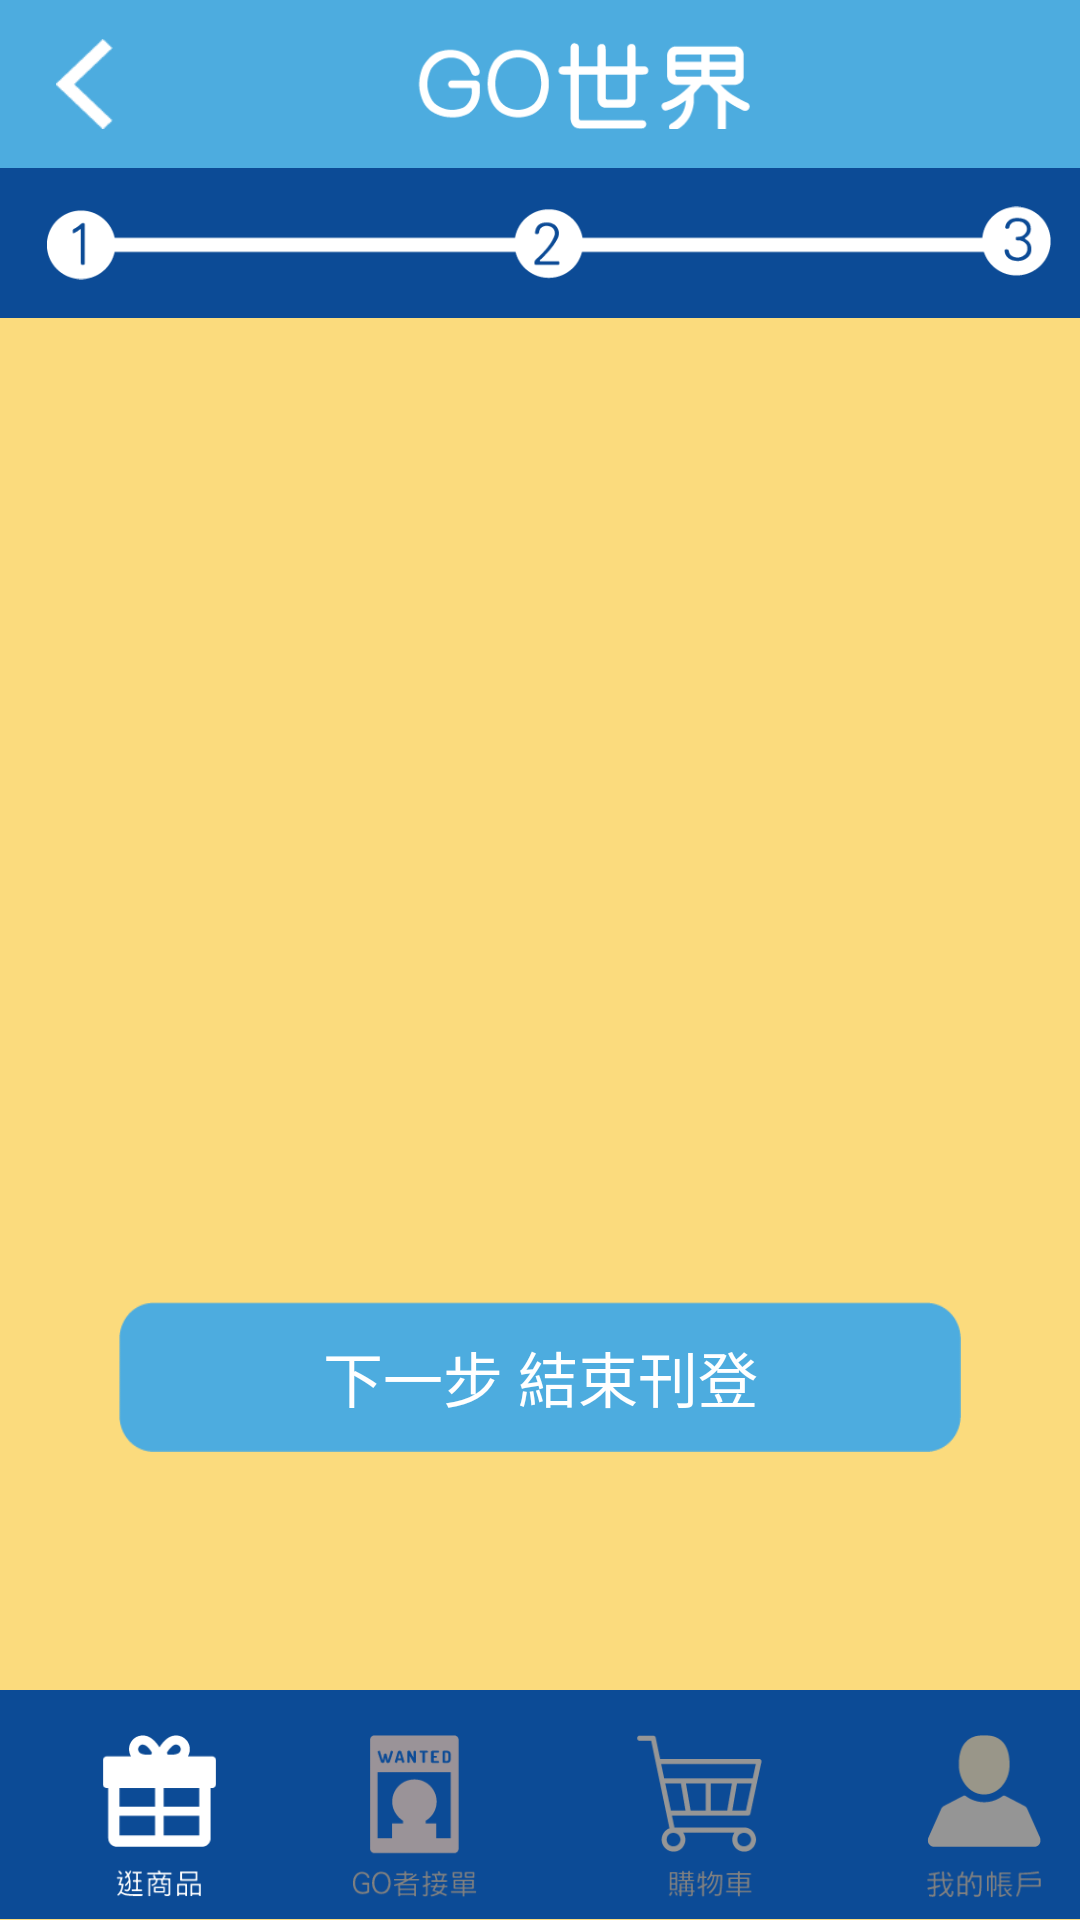

Named icons in this screenshot (1080px x 1920px) and their bounding boxes, bbox(x1, y1, x2, y2):
backward: bbox(56, 39, 113, 129)
